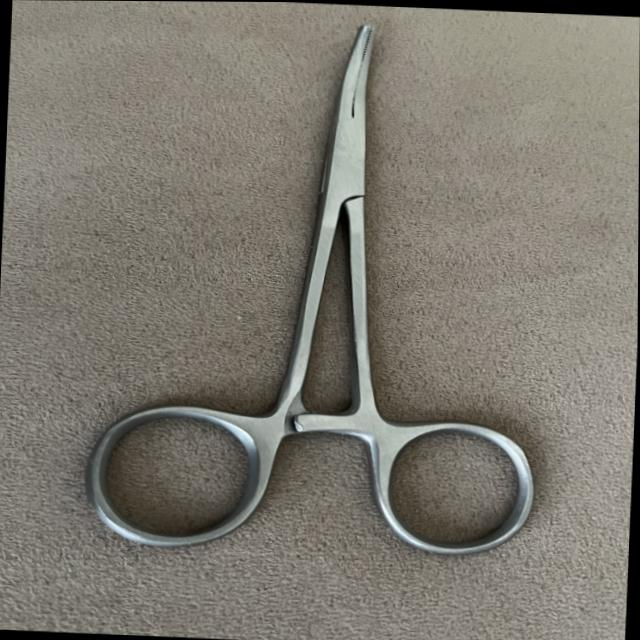scissor: (70, 0, 572, 591)
